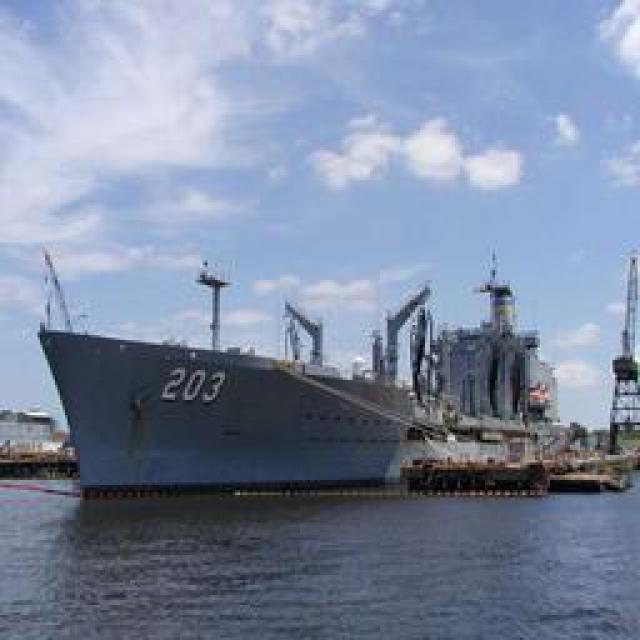Ship: (43, 251, 561, 496)
